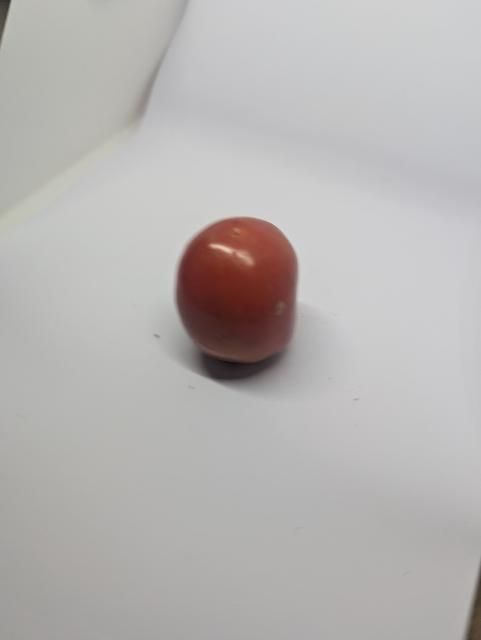red: (175, 216, 301, 370)
